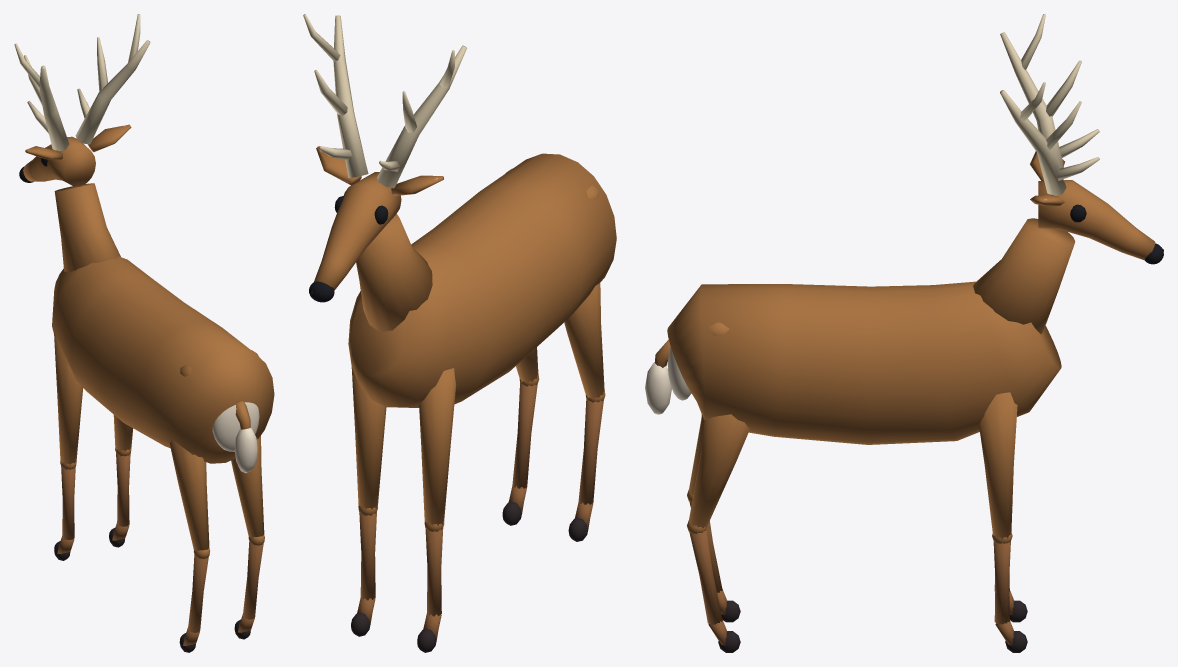
Rendered from beast_deer.glb.
The picture shows the model from 3 angles, left to right: view 1: azimuth 30°, elevation 25°; view 2: azimuth 150°, elevation 25°; view 3: azimuth 270°, elevation 25°; orthographic projection. The views are drawn at different scales.
Visible parts, largest first — view 1: body, head, neck, leg_br, leg_fr, leg_bl, shin_bl, shin_br, shin_fr, shin_fl, tail, leg_fl (+1 smaller); view 2: body, head, neck, leg_fr, leg_fl, leg_br, shin_bl, shin_br, shin_fl, shin_fr, ear_r, ear_l (+1 smaller); view 3: body, head, neck, leg_fl, leg_bl, shin_bl, shin_fl, tail, shin_br.
Boxes of the visible parts, <box> form: body: <box>52,256,274,463</box>; head: <box>14,14,150,186</box>; neck: <box>54,183,120,272</box>; leg_br: <box>169,439,209,558</box>; leg_fr: <box>54,332,83,469</box>; leg_bl: <box>231,436,264,545</box>; shin_bl: <box>234,541,263,639</box>; shin_br: <box>179,554,208,652</box>; shin_fr: <box>54,466,75,560</box>; shin_fl: <box>109,453,130,547</box>; tail: <box>234,401,257,473</box>; leg_fl: <box>113,415,132,456</box>; body: <box>348,153,616,407</box>; head: <box>303,14,466,302</box>; neck: <box>356,214,432,332</box>; leg_fr: <box>419,368,456,531</box>; leg_fl: <box>351,367,386,515</box>; leg_br: <box>564,283,605,402</box>; shin_bl: <box>502,383,537,525</box>; shin_br: <box>568,399,603,541</box>; shin_fl: <box>351,511,376,636</box>; shin_fr: <box>417,527,443,652</box>; ear_r: <box>391,175,443,195</box>; ear_l: <box>316,146,361,185</box>; body: <box>667,281,1061,444</box>; head: <box>1000,14,1163,264</box>; neck: <box>973,218,1075,333</box>; leg_fl: <box>979,392,1017,543</box>; leg_bl: <box>687,414,749,533</box>; shin_bl: <box>689,529,740,652</box>; shin_fl: <box>993,541,1027,652</box>; tail: <box>645,339,671,414</box>; shin_br: <box>689,502,740,622</box>.
Size of the model in its own units: 0.5492 by 2.16 by 1.72.
